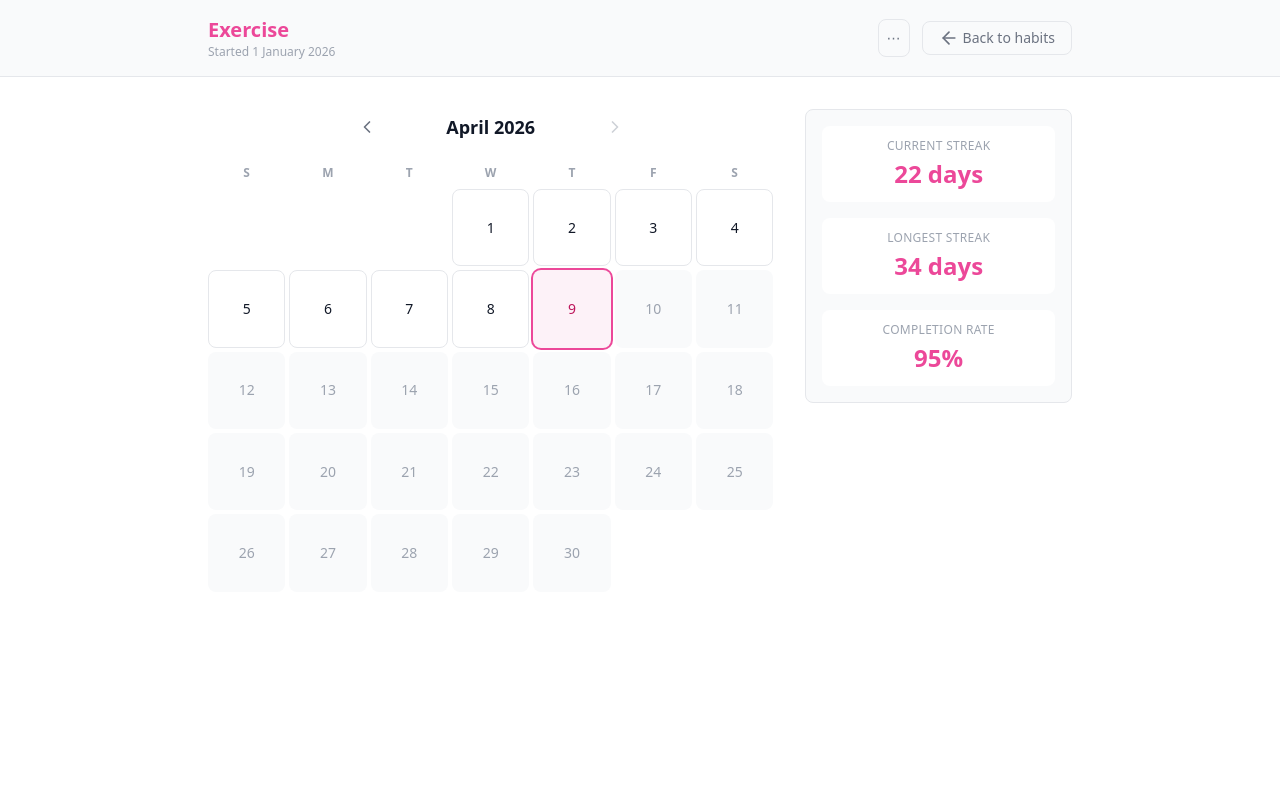
it: HabitCalendarPage › shows settings dropdown with edit option
Expected: the heading "Exercise" is shown, [208, 16, 289, 44]
Click the button named "habit settings": (894, 38) [878, 19, 910, 57]
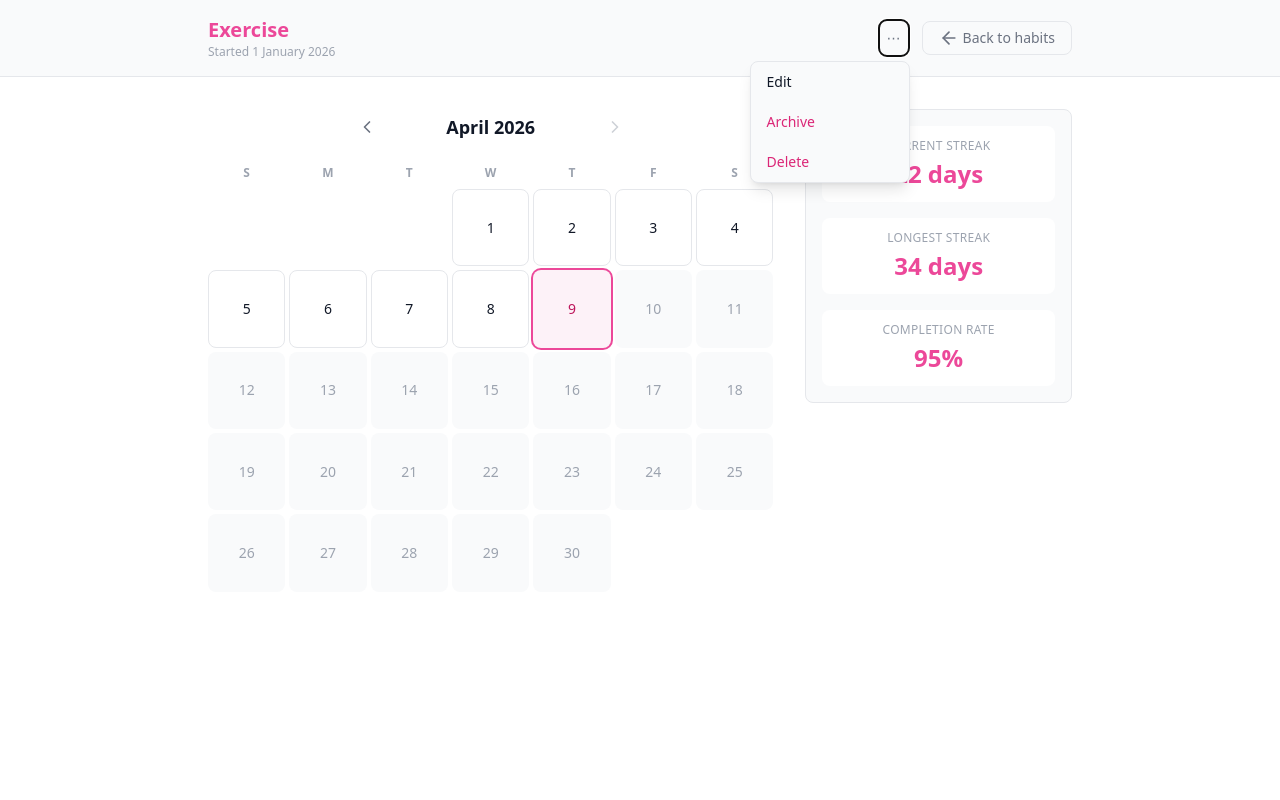
Expected: the menu item "Edit" is shown, [750, 62, 908, 102]
